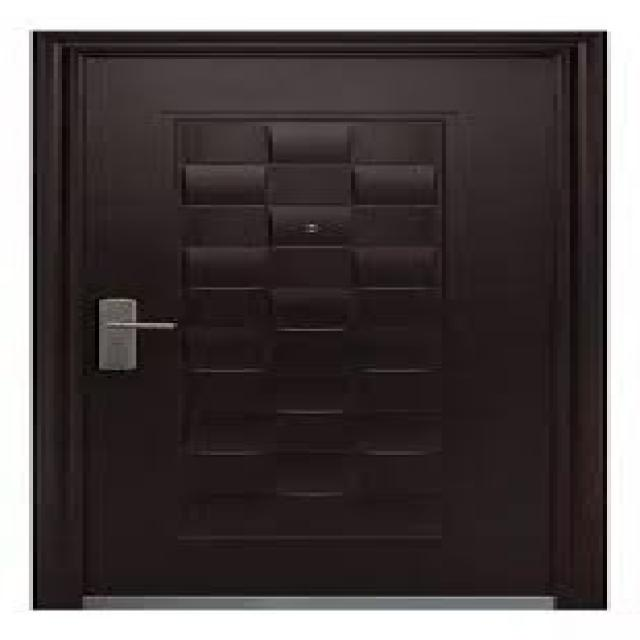door: (39, 31, 605, 610)
